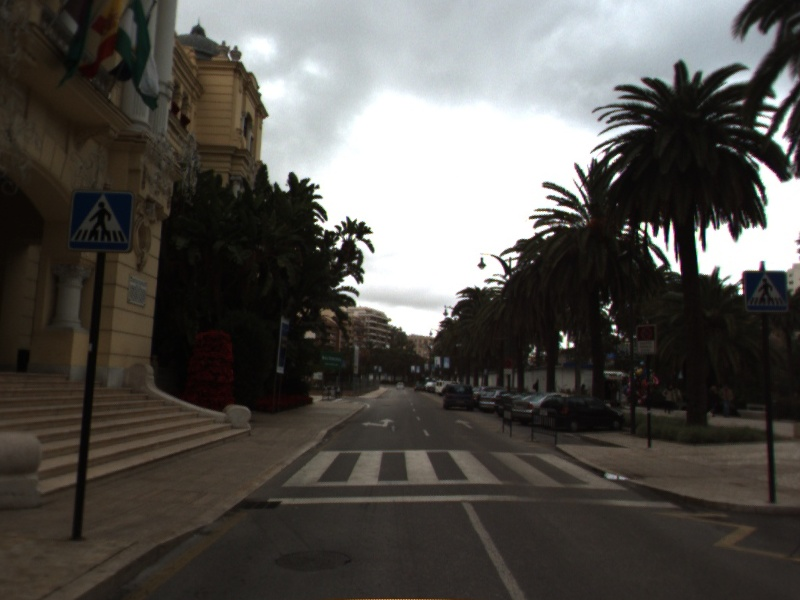STRAIGHT: (453, 417, 475, 431)
STRAIGHT_LEFT: (359, 416, 397, 430)
